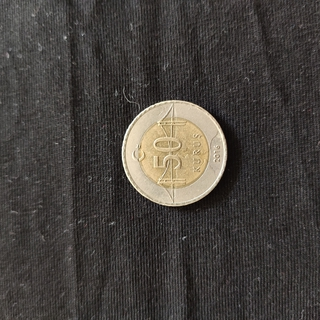50KURUS: (120, 99, 229, 209)
